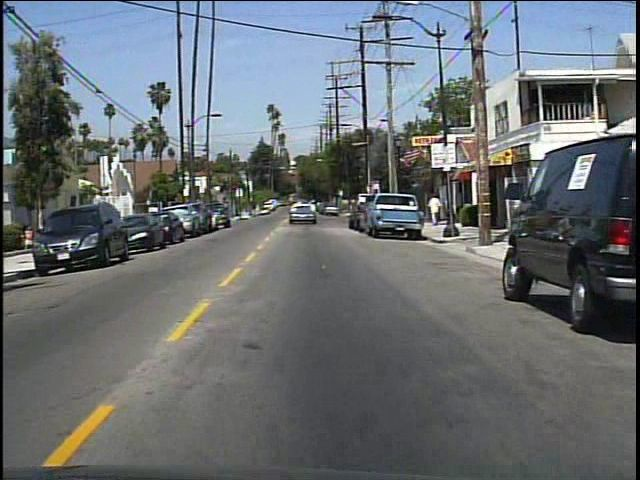person: (427, 190, 446, 228), (26, 223, 42, 252)
